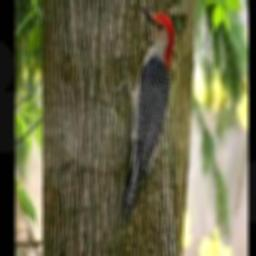Woodpecker: (117, 4, 174, 213)
